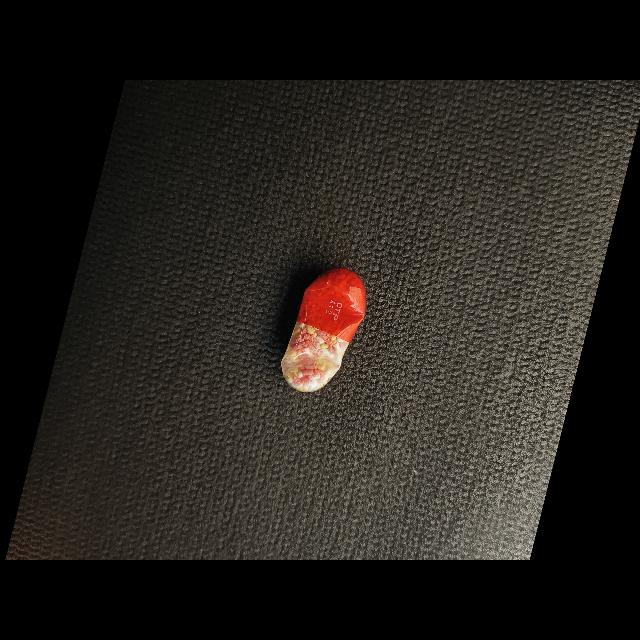Defective Capsule: (281, 268, 366, 393)
